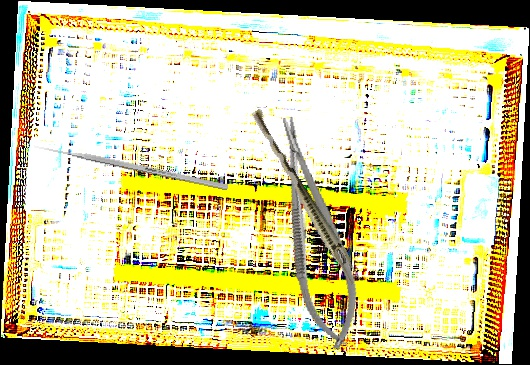Needle Holder: (260, 110, 371, 355)
Pusher: (33, 142, 229, 191)
Tissue Forceps: (244, 108, 366, 286)
